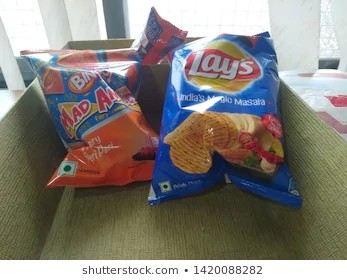lays-small: (144, 32, 303, 207)
